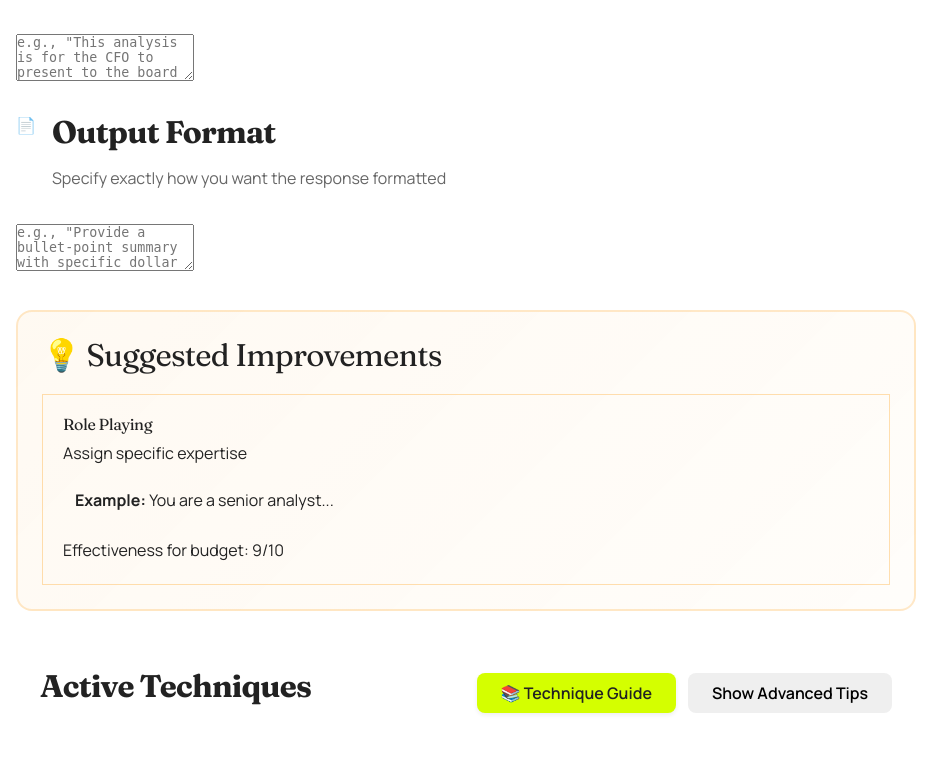
Test: AdaptivePromptBuilder › shows advanced tips when toggled
This screenshot has width=933, height=762.
(page scrolled)
Click the button "Show Advanced Tips": coordinates (790, 693) x1=688 y1=673 x2=892 y2=713
(page scrolled)
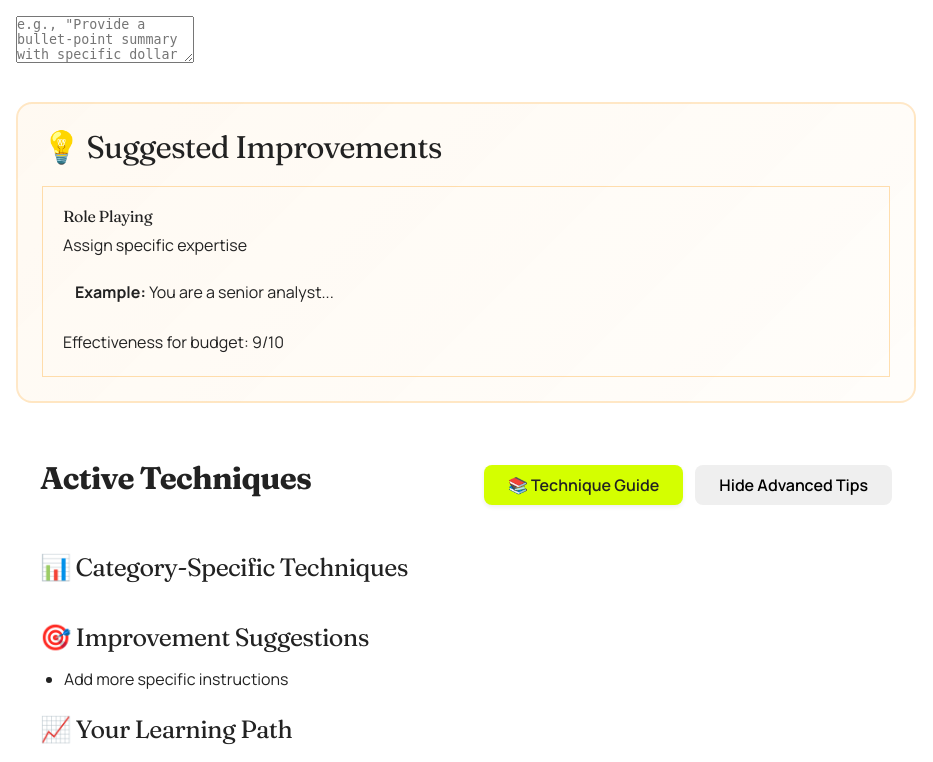
Result: the heading "📊 Category-Specific Techniques" is shown at x1=40 y1=552 x2=408 y2=582
Result: the heading "📈 Your Learning Path" is shown at x1=40 y1=714 x2=292 y2=744
